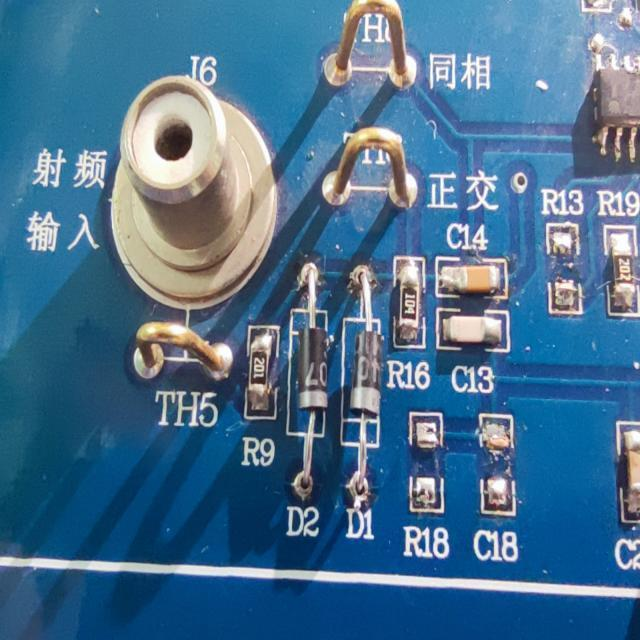Missing component: (532, 166, 593, 330), (402, 402, 453, 562), (474, 408, 520, 567)
